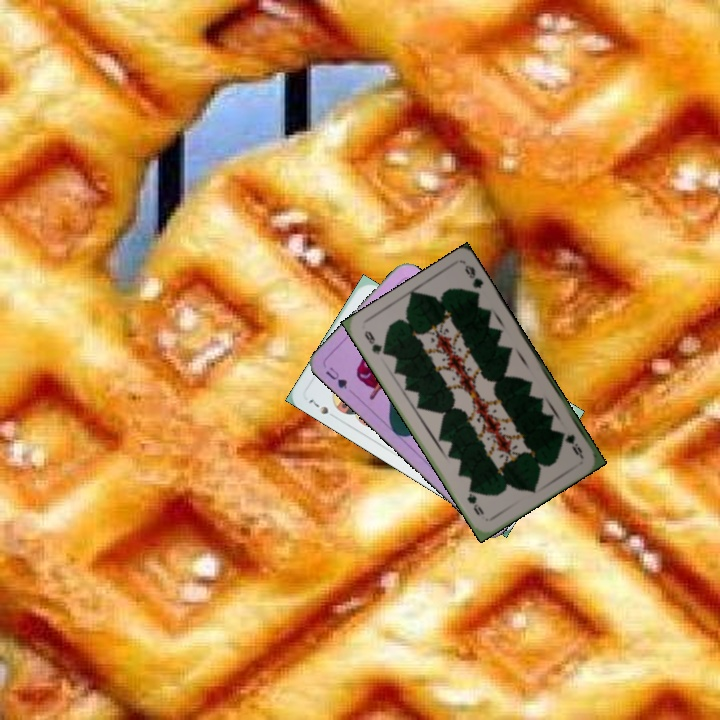G9: (360, 327, 389, 359), (558, 427, 585, 459)
GU: (321, 363, 350, 392)
S7: (305, 395, 340, 421)
